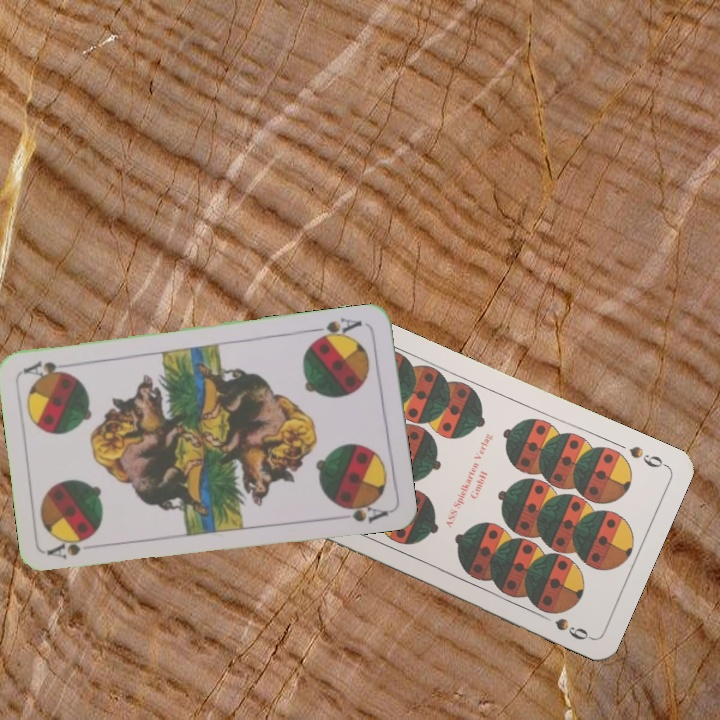S9: (625, 442, 669, 471)
SA: (309, 314, 365, 345), (44, 532, 97, 562)
